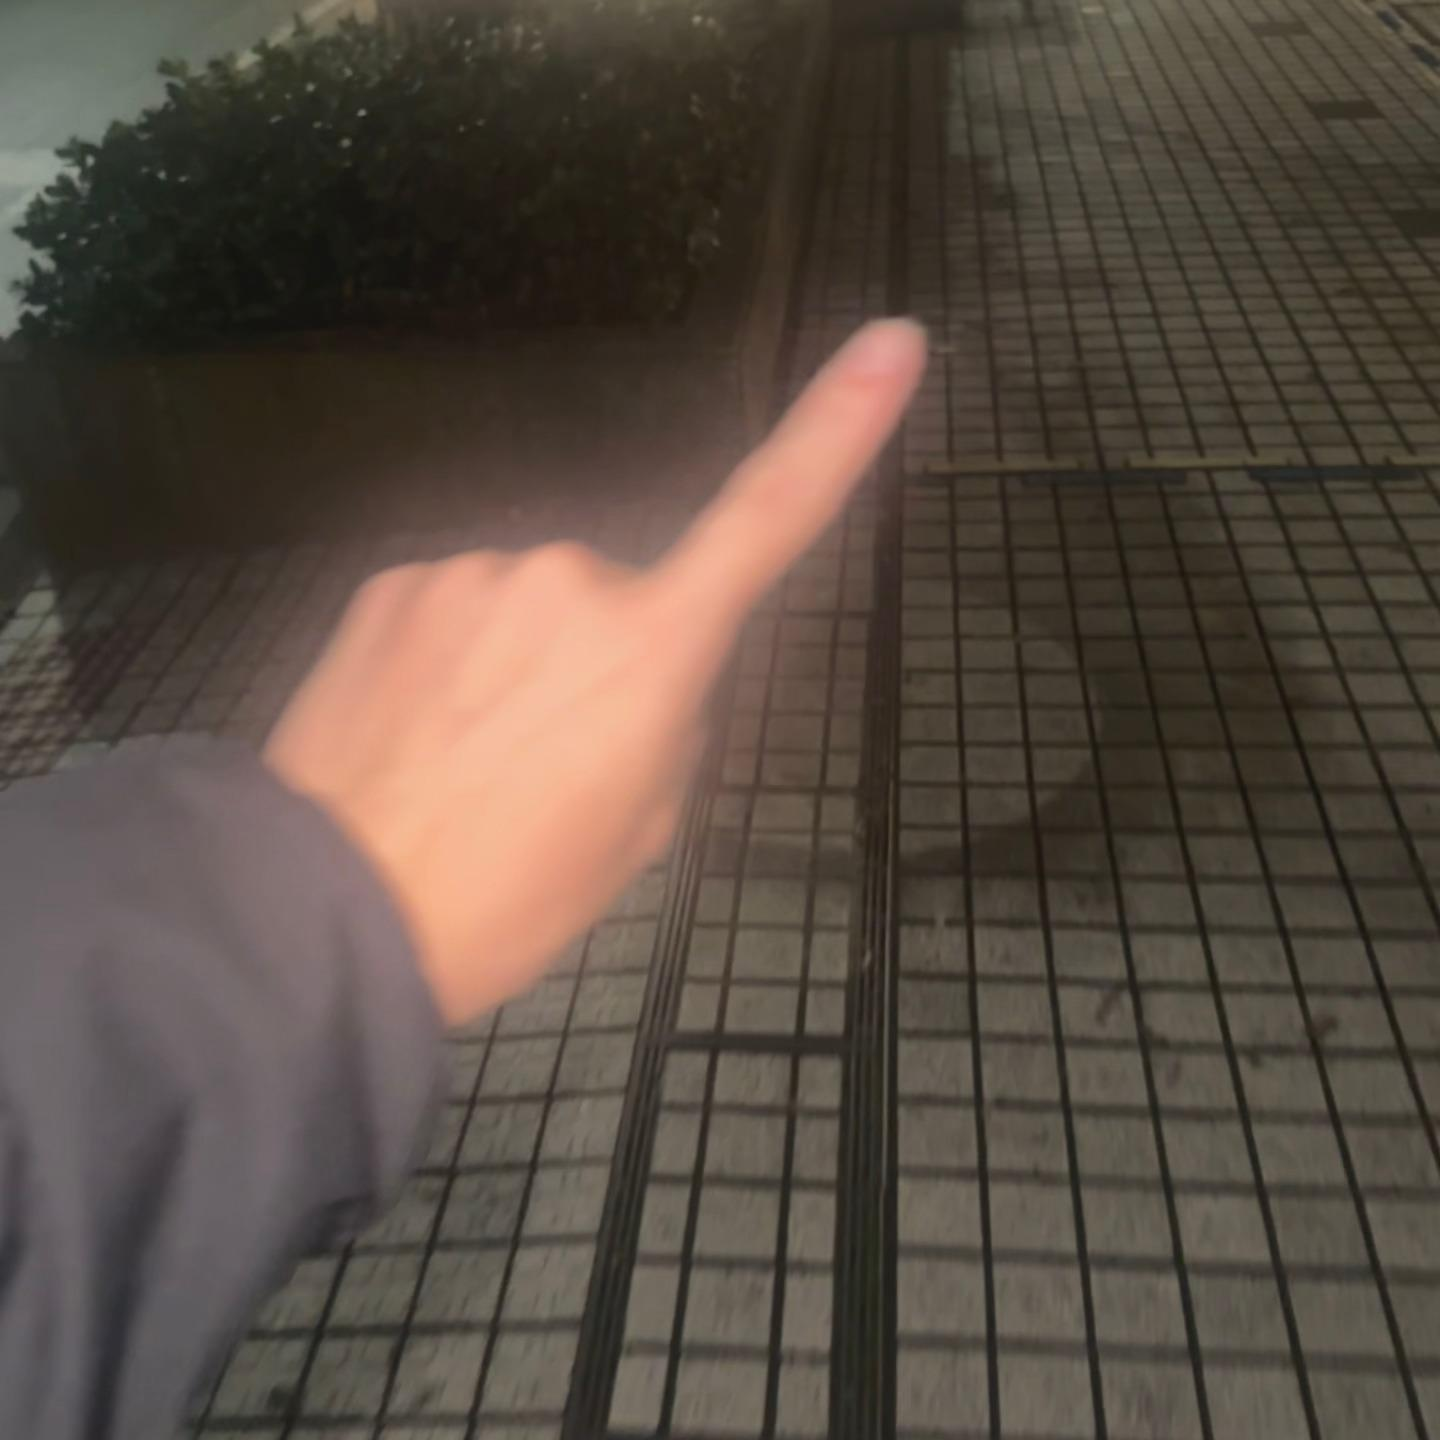without_gloves: (190, 168, 1137, 949)
